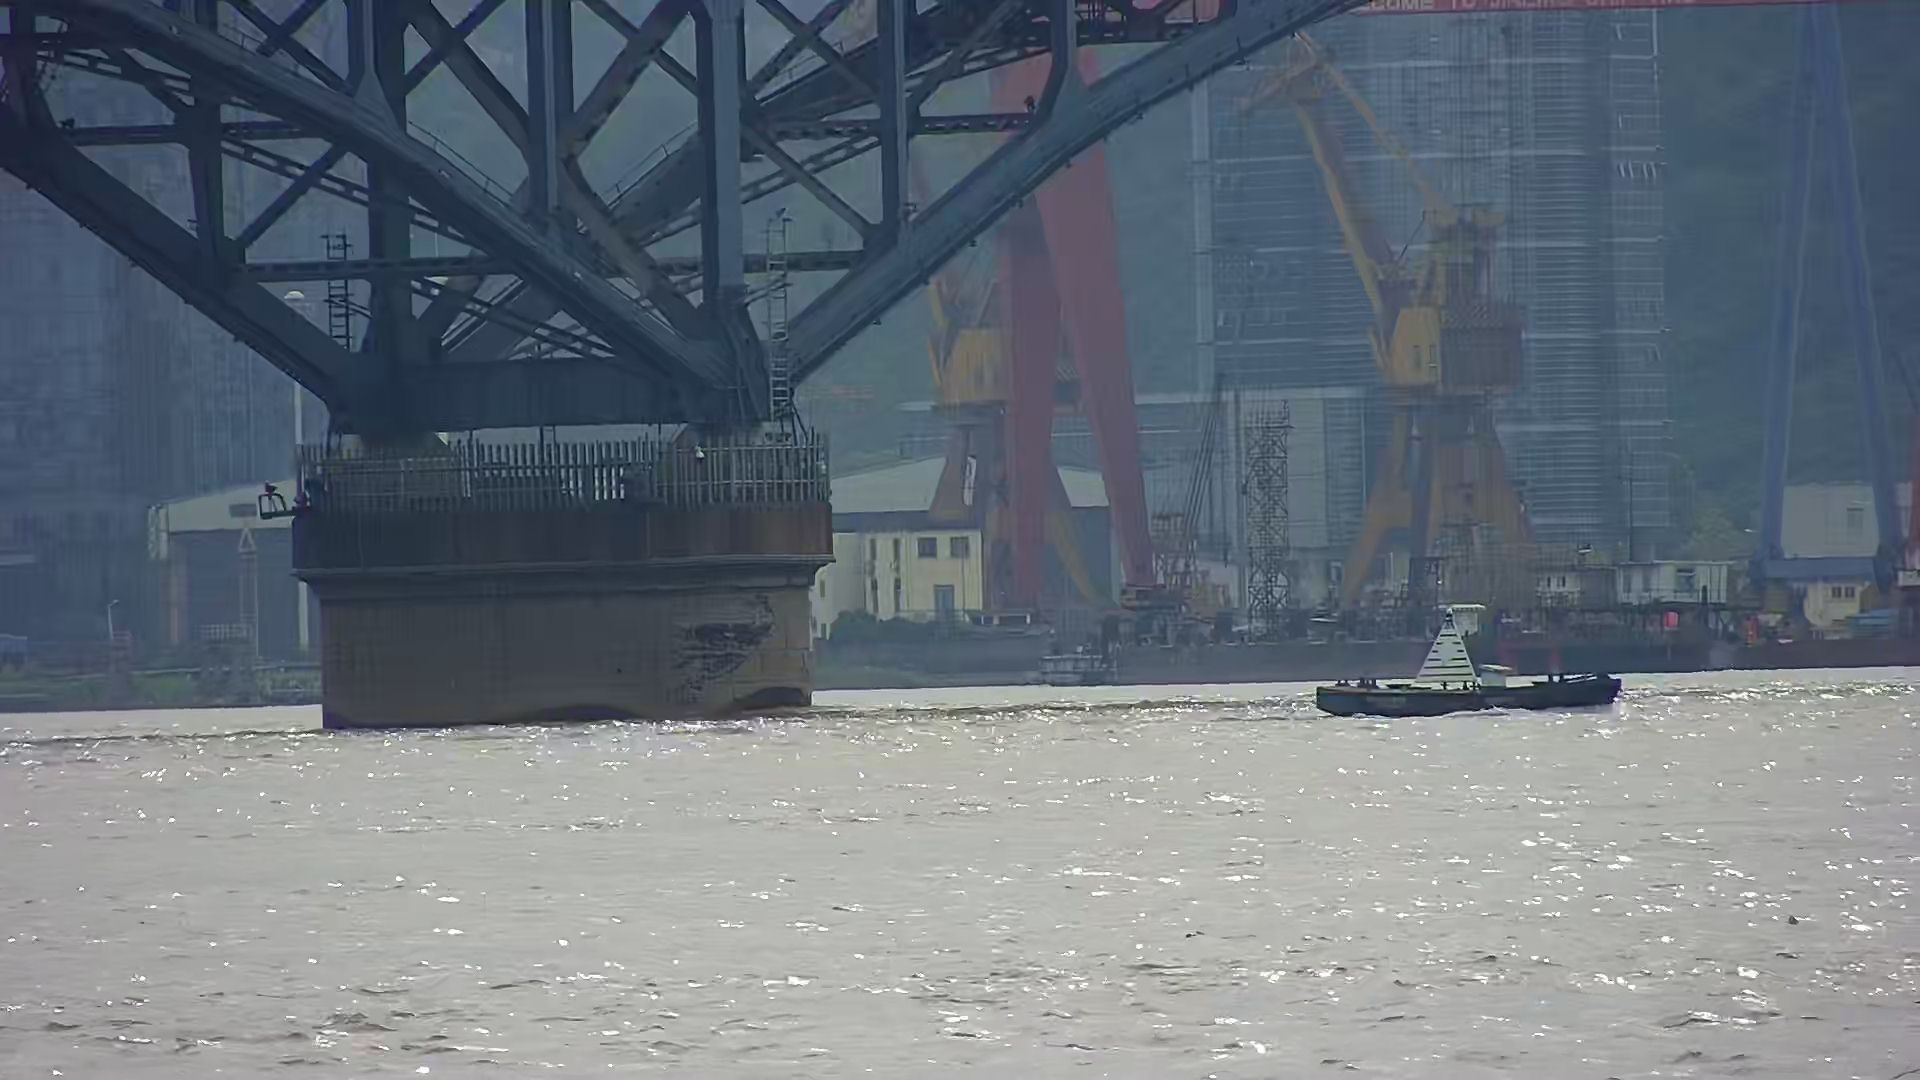boat: (1317, 607, 1625, 716)
bridge: (1, 1, 1366, 727)
harbor: (972, 560, 1721, 692)
